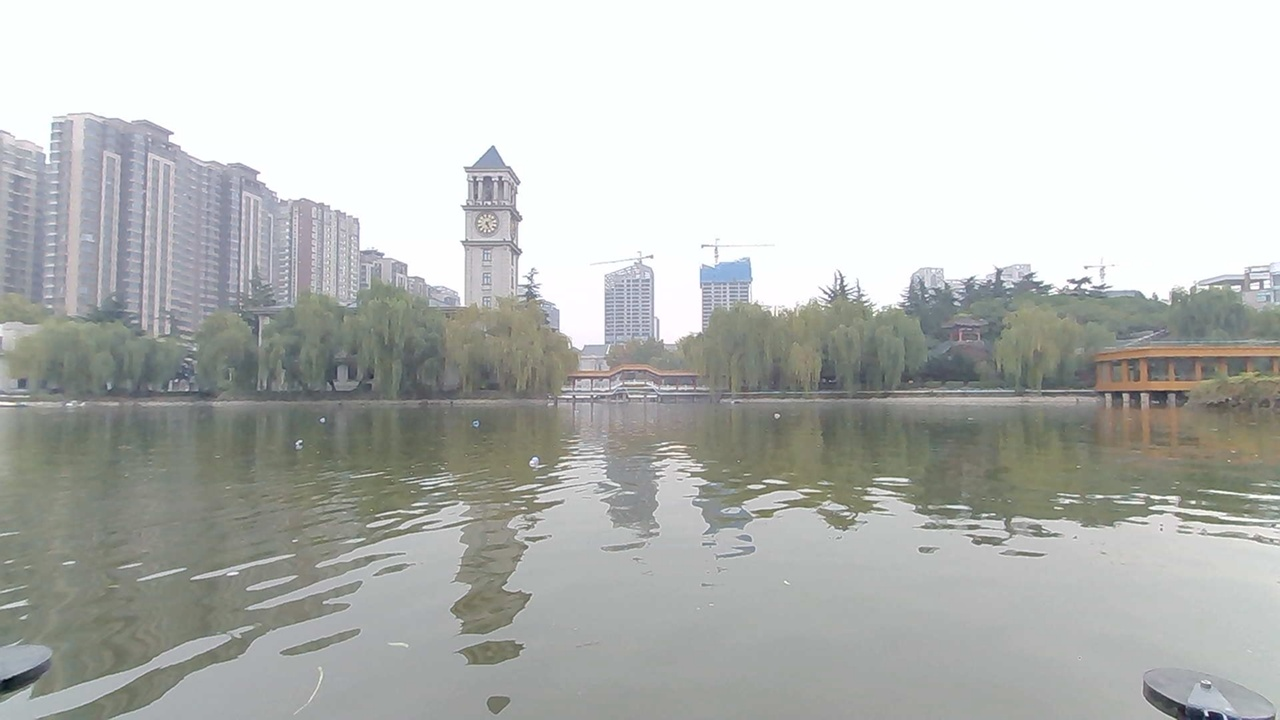bottle: (507, 446, 567, 479), (278, 432, 319, 455), (756, 405, 795, 428), (459, 411, 496, 435), (309, 407, 345, 431)
